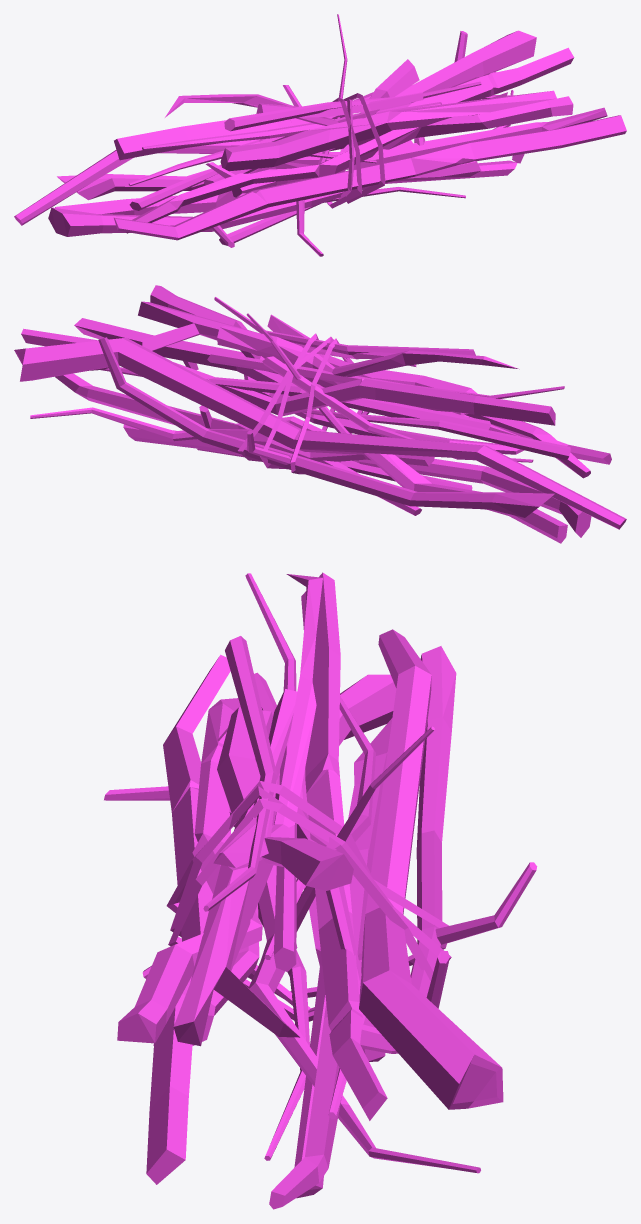
File: SM_Wood_Branch_Bundle_A_Fantasy.fbx
3 views of the same model, one above another, from view 1: azimuth 30°, elevation 25°; view 2: azimuth 150°, elevation 25°; view 3: azimuth 270°, elevation 25° (orthographic). The views are drawn at different scales.
Visible parts, largest first — view 1: SM_Wood_Branch_Bundle_A_Fantasy; view 2: SM_Wood_Branch_Bundle_A_Fantasy; view 3: SM_Wood_Branch_Bundle_A_Fantasy.
Part boxes in pixels (left/top/right/bottom): SM_Wood_Branch_Bundle_A_Fantasy: left=14, top=14, right=626, bottom=256; SM_Wood_Branch_Bundle_A_Fantasy: left=14, top=285, right=626, bottom=543; SM_Wood_Branch_Bundle_A_Fantasy: left=104, top=572, right=537, bottom=1209.
Size of the model in its own units: 2.06 by 0.612 by 0.6873.
